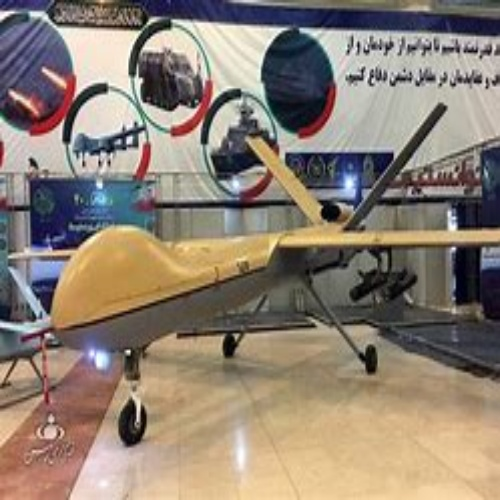uav673: (38, 102, 500, 447)
